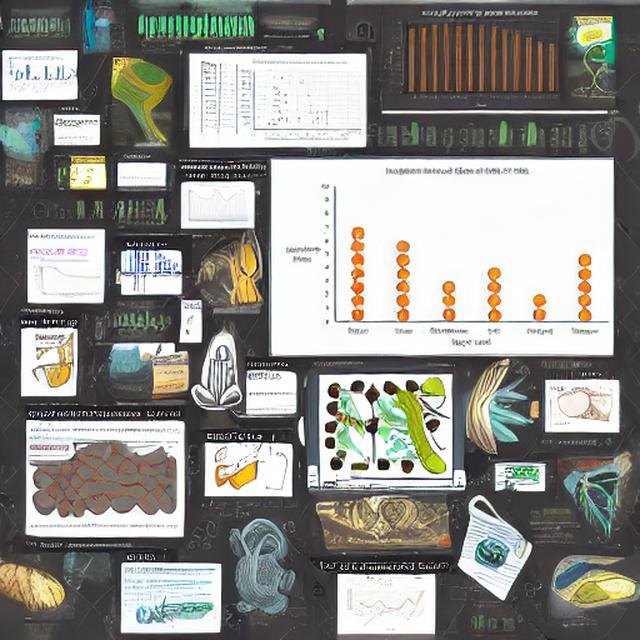Graph: (282, 162, 612, 353), (383, 6, 562, 111), (232, 56, 364, 145), (343, 581, 429, 633), (104, 300, 173, 343), (33, 259, 103, 301), (3, 55, 73, 97), (183, 183, 249, 225)
